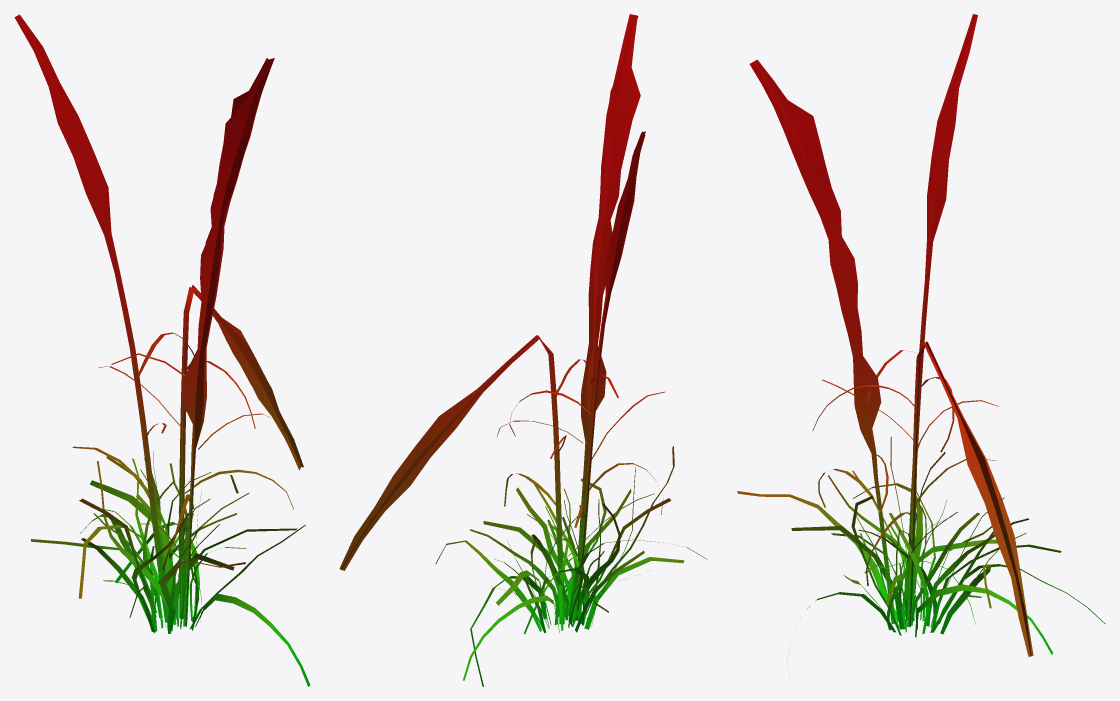
Rendered from Wheat_LOD1_Var4_smdoejyr.fbx.
3 views of the same model, side by side, from view 1: azimuth 30°, elevation 25°; view 2: azimuth 150°, elevation 25°; view 3: azimuth 270°, elevation 25° (orthographic). The views are drawn at different scales.
Visible parts, largest first — view 1: _6dk2_Var4_LOD1; view 2: _6dk2_Var4_LOD1; view 3: _6dk2_Var4_LOD1.
Part boxes in pixels (x1,y1,x2,y2): _6dk2_Var4_LOD1: (14,14,310,686); _6dk2_Var4_LOD1: (339,14,707,686); _6dk2_Var4_LOD1: (737,14,1105,659).
Size of the model in its own units: 29.78 by 58.23 by 32.42.
